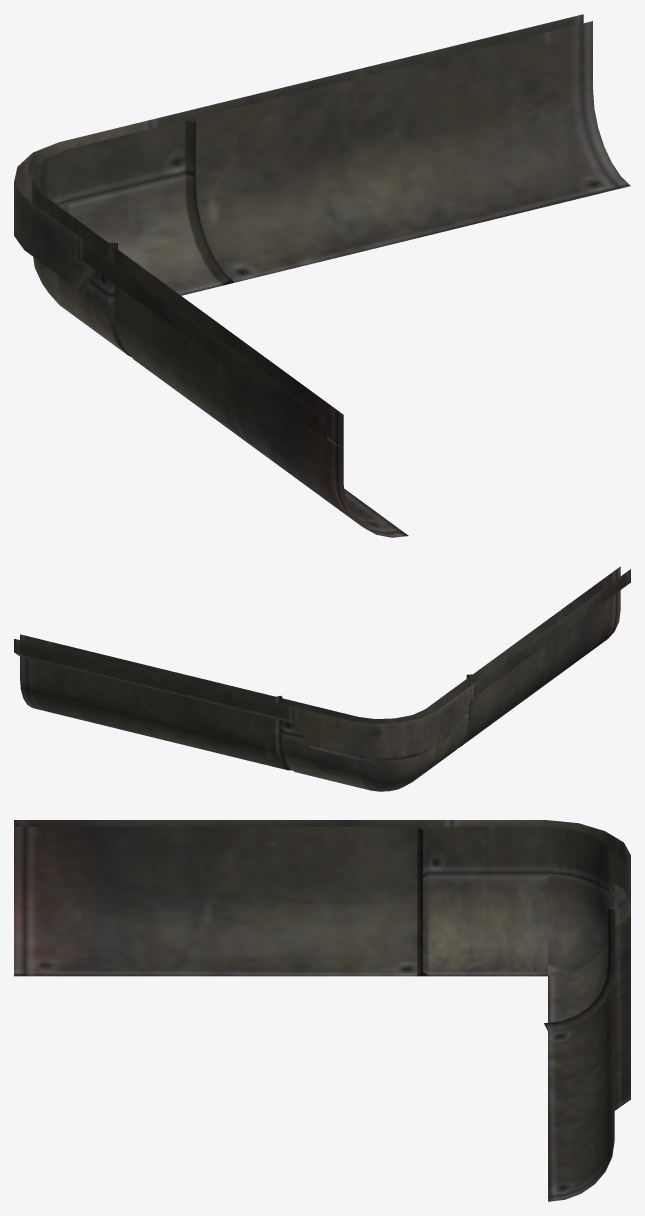
File: welder_ceiling_convex_pplant.dae
3 renders of one model, top to bottom at view 1: azimuth 30°, elevation 25°; view 2: azimuth 150°, elevation 25°; view 3: azimuth 270°, elevation 25°, orthographic. The views are drawn at different scales.
Parts seen in each view (by area): view 1: welder_ceiling_convex_pplant; view 2: welder_ceiling_convex_pplant; view 3: welder_ceiling_convex_pplant.
Part boxes in pixels (x1,y1,x2,y2): welder_ceiling_convex_pplant: (14, 14, 630, 537); welder_ceiling_convex_pplant: (14, 566, 630, 791); welder_ceiling_convex_pplant: (14, 820, 630, 1201).
Bounding box in the file's own units: 2.31 × 0.5 × 2.31.
